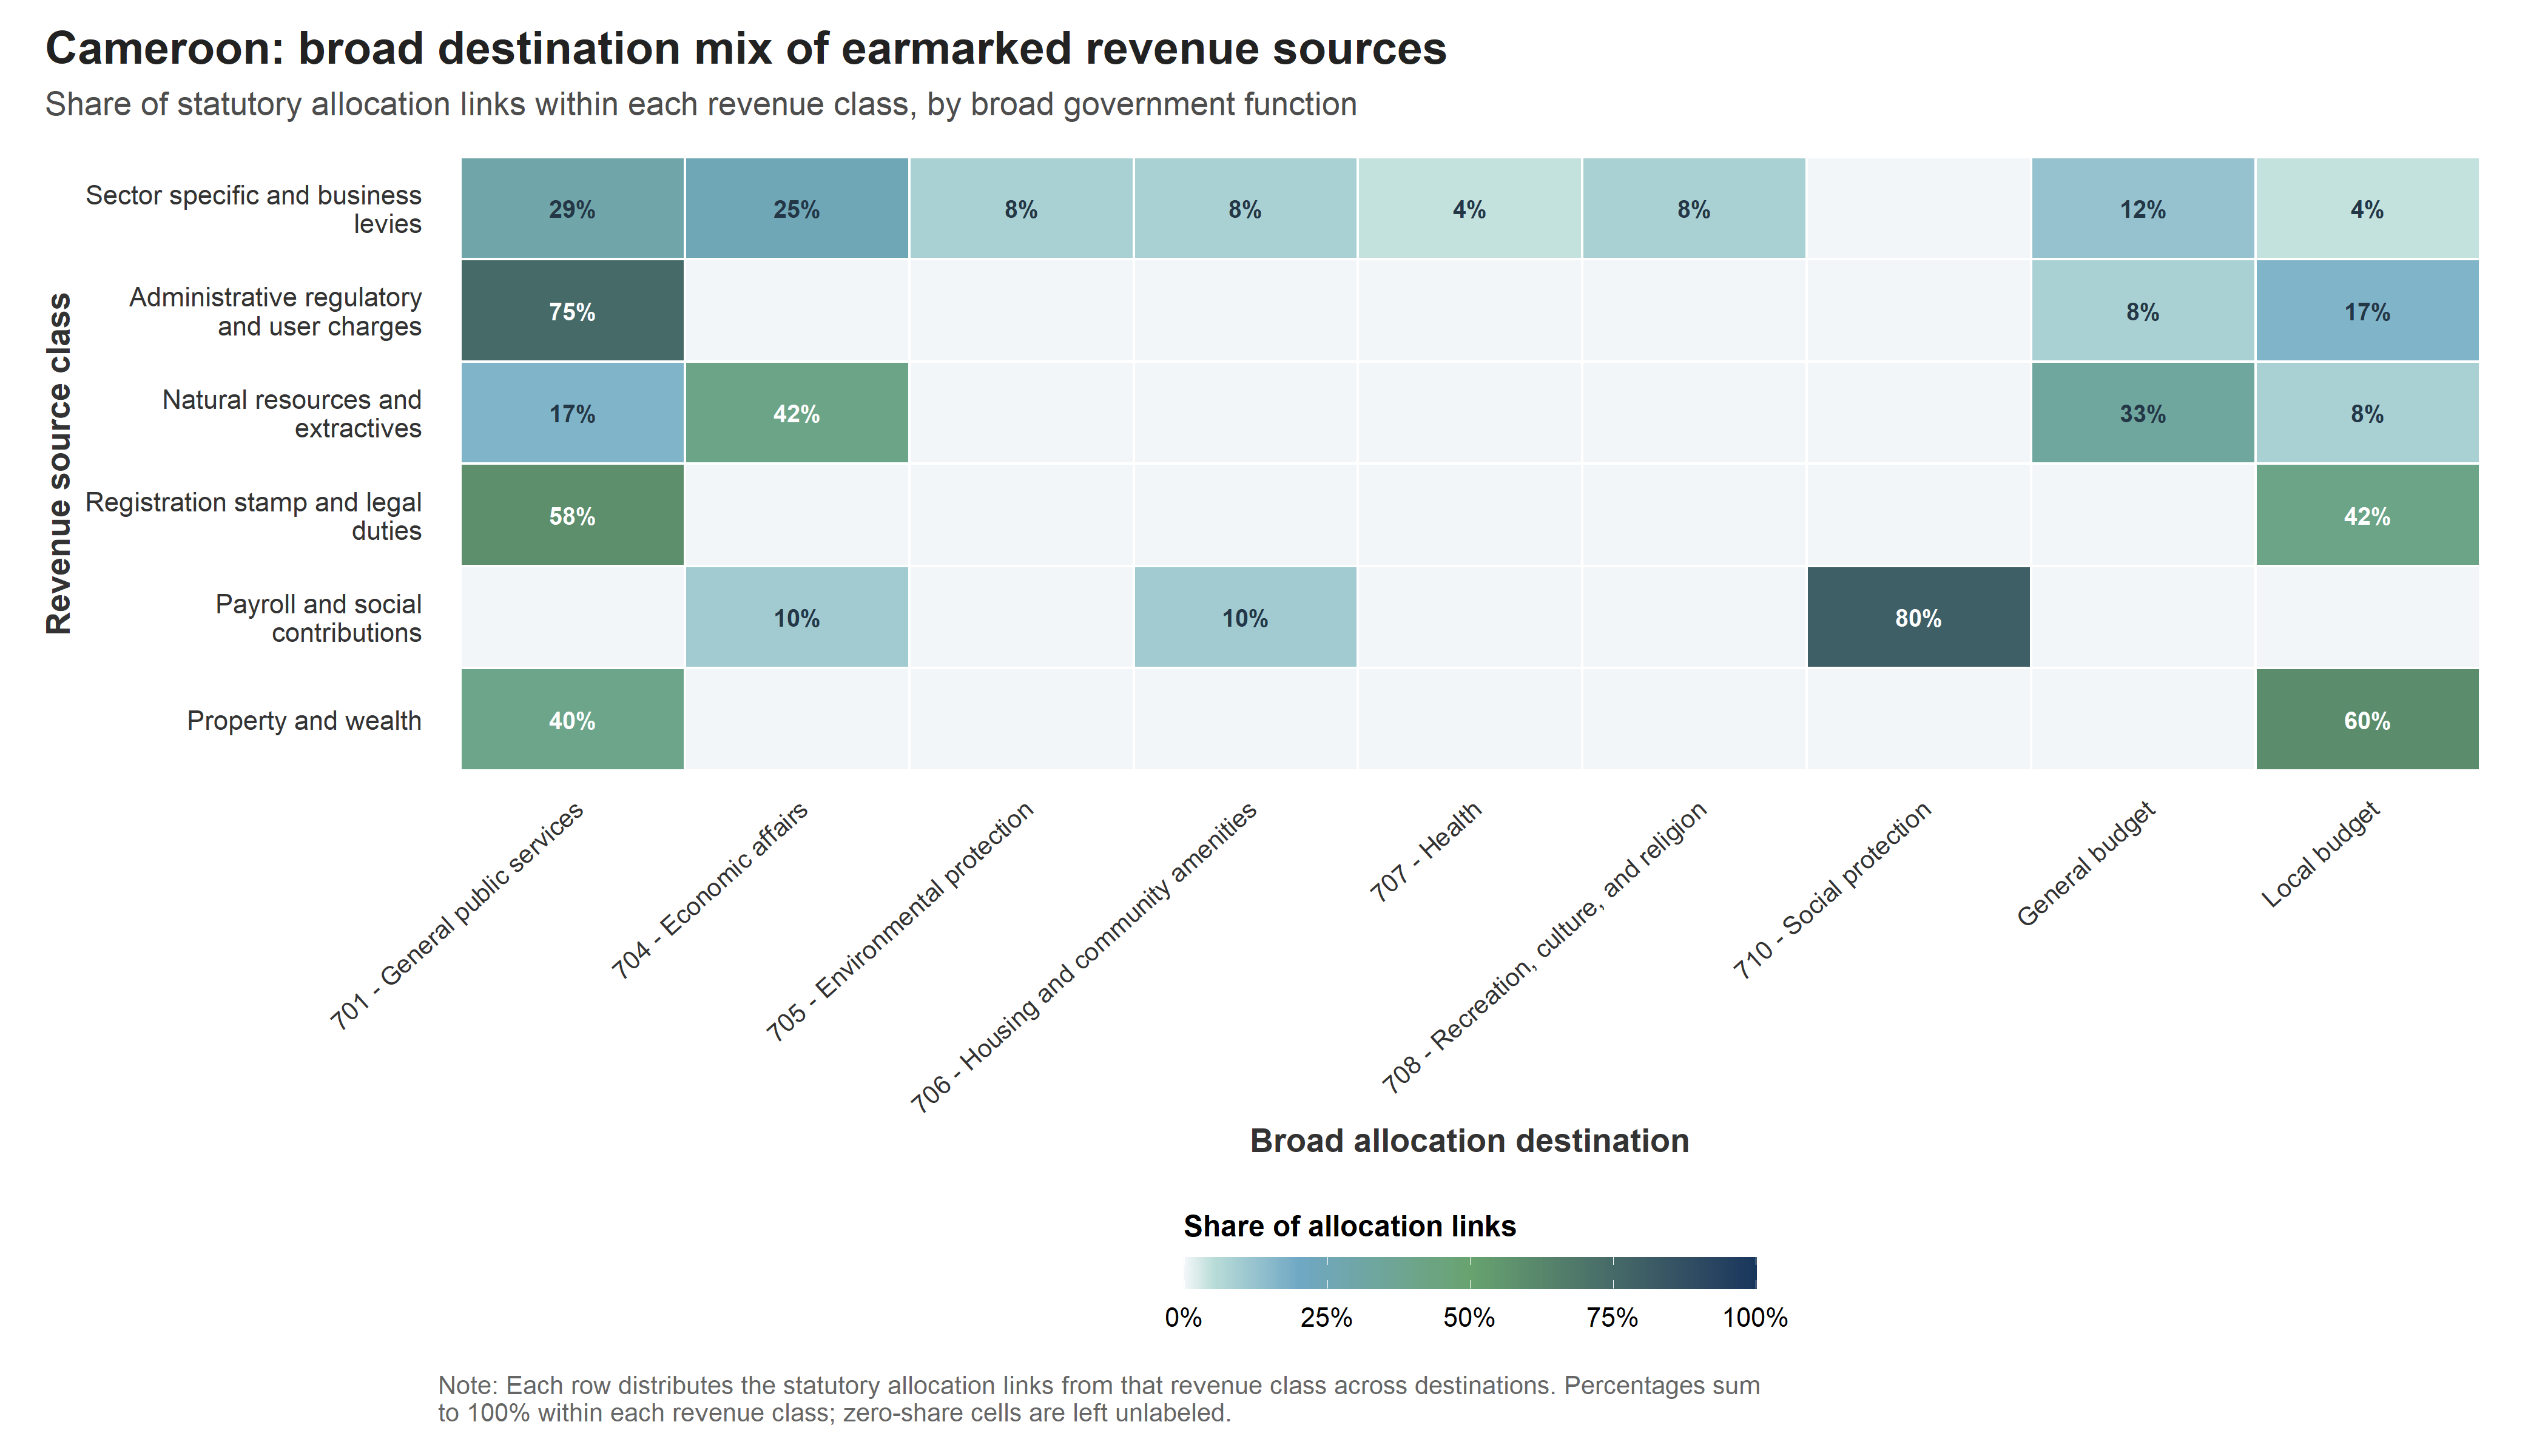

What the dashboard file says about the page in this screenshot:
{"tool":"powerbi","page":{"name":"destination function per country","canvas":[1920,1080],"ordinal":7},"visuals":[{"type":"clusteredBarChart","fields":{"Category":["COFOG_GFSM2014_mapping.cofog_name"],"Y":["Count(SSA_EARMARK_ALLOCATIONS.pair_id)"]},"box":[0,0,1921.1,1078.5],"z":0}]}

Visuals, with their boxes in screenshot pixels (x1, y1, x2, y2), scaled from the page's 1920x1080 canvas onto the 2548x1456 screenshot:
clusteredBarChart - COFOG_GFSM2014_mapping.cofog_name x Count(SSA_EARMARK_ALLOCATIONS.pair_id): box=[0, 0, 2547, 1454]
